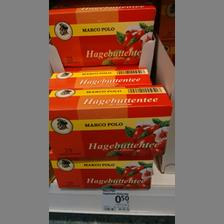Tee: (48, 84, 172, 160), (48, 4, 156, 68), (49, 70, 151, 86)
